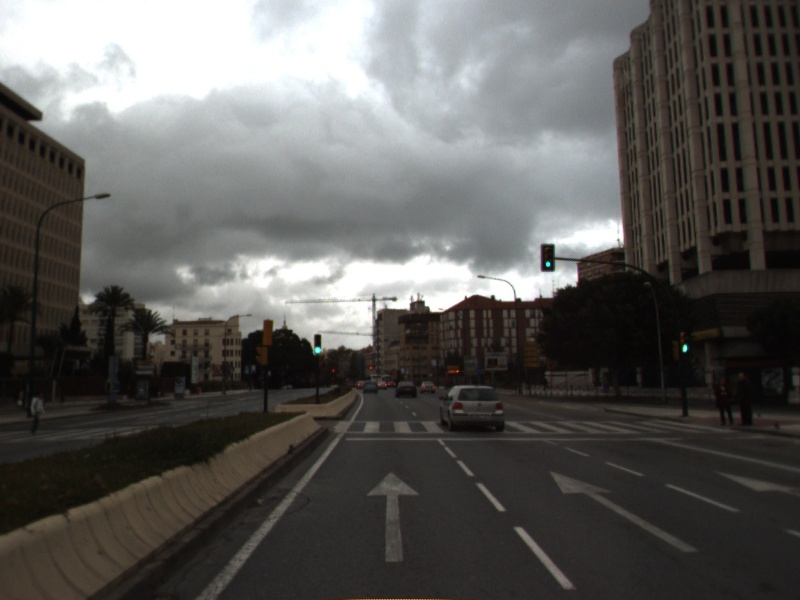STRAIGHT: (547, 469, 701, 555), (363, 469, 423, 564), (712, 469, 800, 501)
